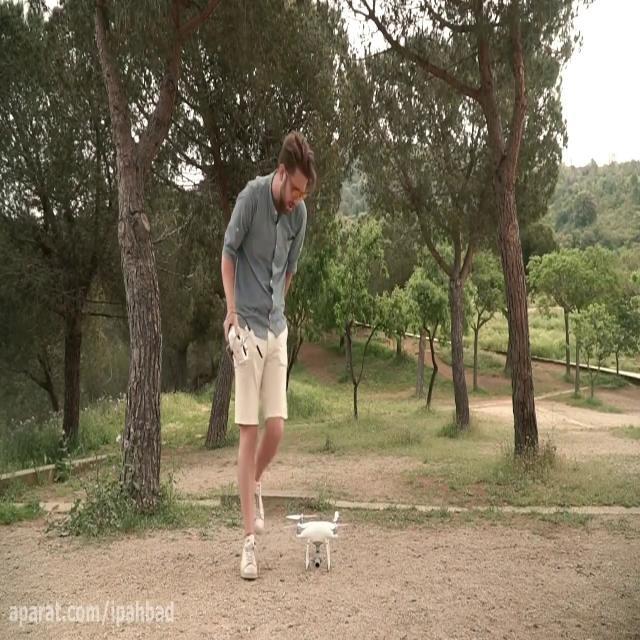drone: (287, 508, 347, 572)
